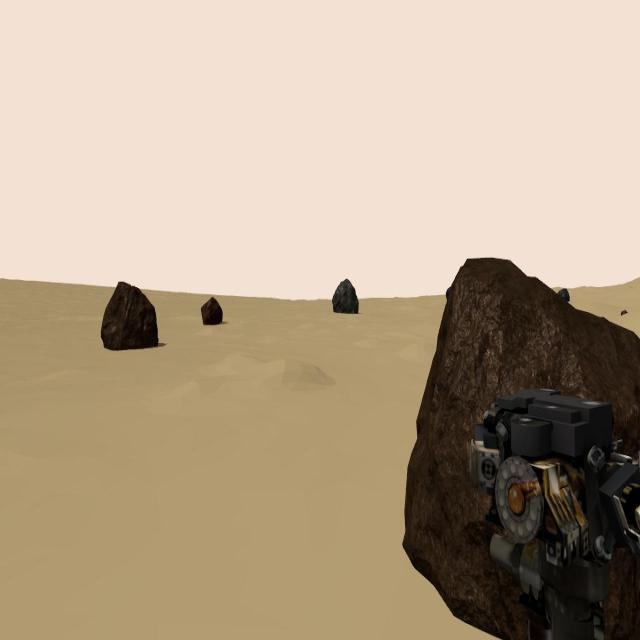rock: (402, 258, 640, 640), (101, 280, 158, 350), (332, 278, 359, 314), (200, 296, 223, 324), (558, 286, 570, 302), (621, 309, 629, 317)
